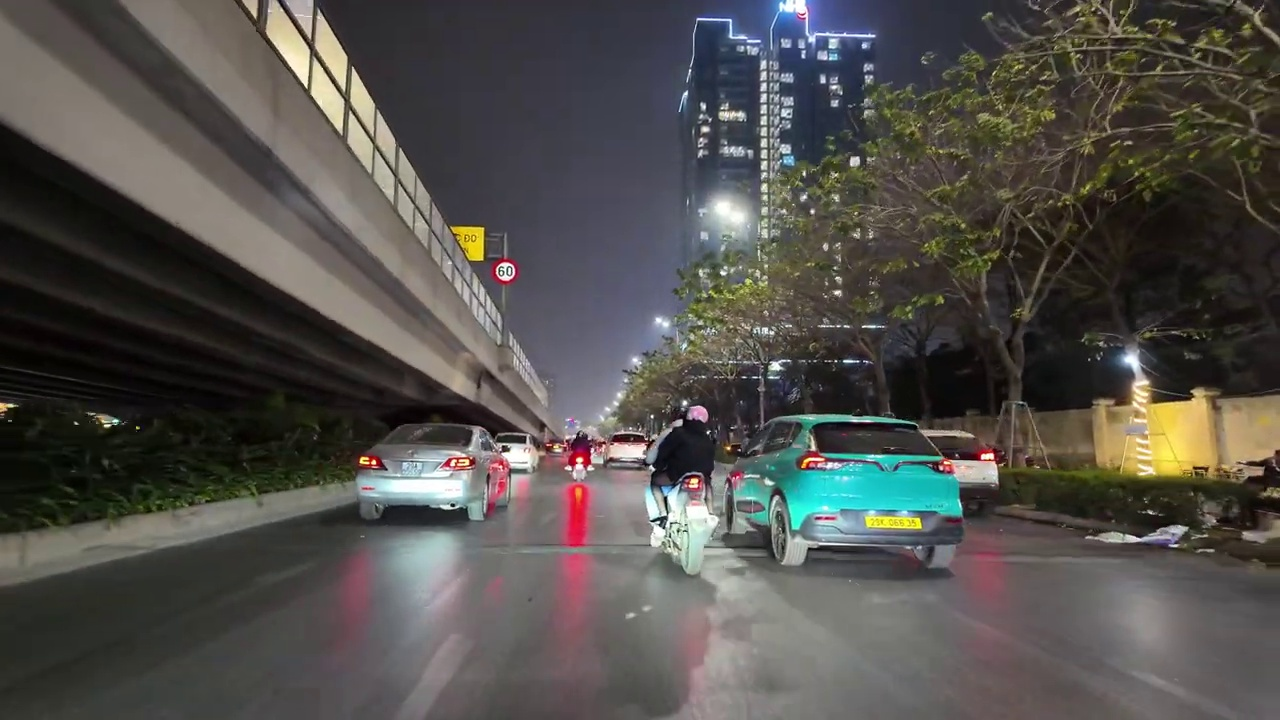acesa: (710, 195, 751, 231)
